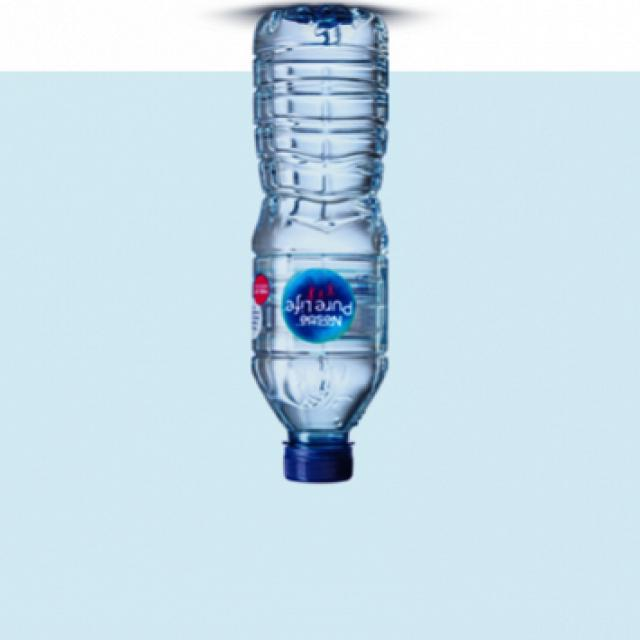cap: (280, 435, 356, 484)
label: (250, 262, 394, 355)
not-crumbled: (248, 0, 398, 494)
